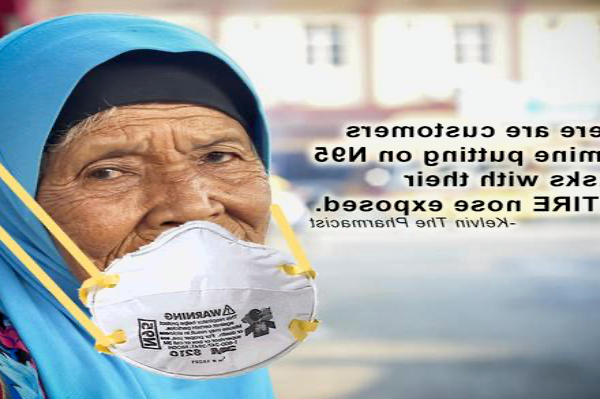mask_weared_incorrect: (46, 128, 274, 307)
